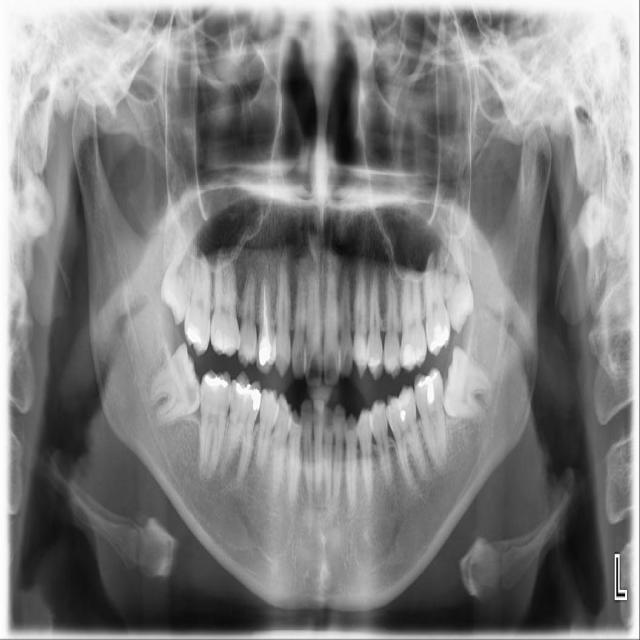3M ESPE Implant: (156, 226, 201, 327)
52: (224, 370, 266, 425), (384, 383, 418, 437), (199, 369, 233, 415), (399, 323, 429, 373), (183, 304, 211, 357), (414, 367, 444, 415), (210, 310, 240, 357), (425, 306, 451, 357), (255, 327, 278, 375), (363, 336, 388, 380)
73: (258, 276, 275, 336), (579, 574, 585, 586)
BioHorizons Implant: (422, 244, 452, 357)
BioLife Implant: (434, 236, 480, 336)
Biomet 3i Implant: (436, 344, 501, 425)
Blue Sky Bio Implant: (413, 367, 448, 472)
Caries: (183, 241, 214, 357)
Implant: (197, 369, 233, 481)
Keystone Dental Implant: (135, 342, 210, 427)
